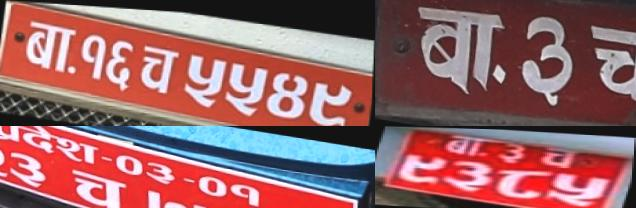0: (407, 1, 503, 95), (198, 169, 229, 193), (114, 149, 145, 172)
1: (75, 29, 108, 83), (230, 176, 261, 200)
2: (0, 134, 11, 177)
3: (441, 158, 499, 192), (5, 145, 51, 187), (494, 139, 537, 165), (146, 156, 177, 180)
4: (264, 64, 312, 119)
5: (179, 44, 230, 107), (220, 55, 270, 116), (543, 170, 615, 208)
6: (103, 32, 138, 92)
7: (143, 181, 194, 208)
8: (489, 165, 555, 200)
9: (580, 18, 636, 104), (304, 69, 357, 126), (395, 152, 451, 188), (188, 193, 240, 208)
ba: (516, 8, 580, 104), (17, 15, 78, 76), (438, 133, 499, 160)
cha: (65, 163, 134, 208), (134, 38, 181, 96), (534, 145, 590, 169)
